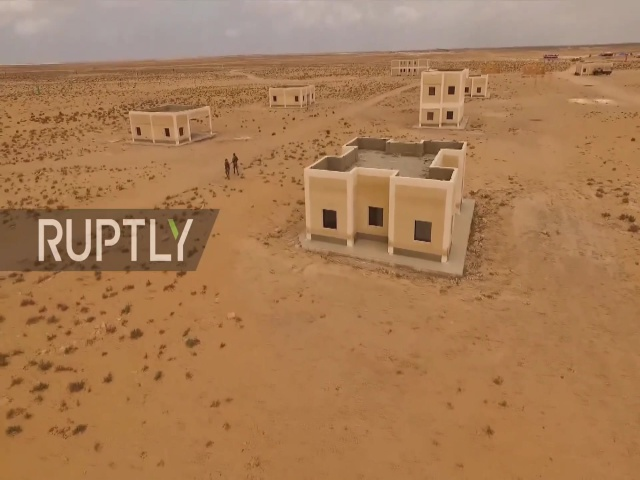person: (231, 152, 241, 179), (223, 157, 233, 182)
